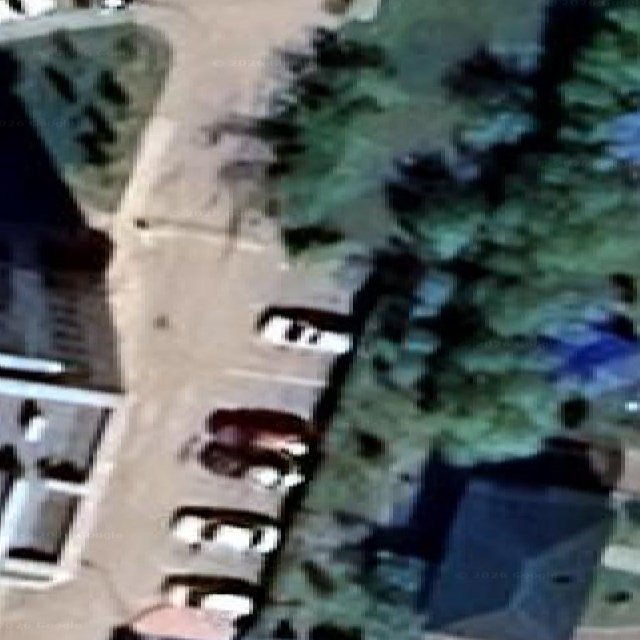car: (180, 407, 316, 489), (536, 313, 639, 397), (2, 472, 79, 584), (19, 400, 108, 483), (207, 407, 315, 456), (196, 440, 303, 489), (169, 506, 279, 553), (160, 573, 258, 624), (108, 602, 238, 639), (543, 432, 623, 492), (256, 306, 351, 355), (384, 151, 455, 212), (584, 377, 639, 430), (0, 352, 88, 382), (35, 455, 85, 483), (0, 0, 55, 22), (19, 400, 47, 440), (0, 443, 23, 480), (20, 0, 55, 16), (0, 0, 23, 23), (108, 624, 140, 639), (99, 0, 131, 12), (3, 0, 23, 13), (0, 475, 4, 503), (55, 327, 67, 336), (8, 482, 9, 483)
